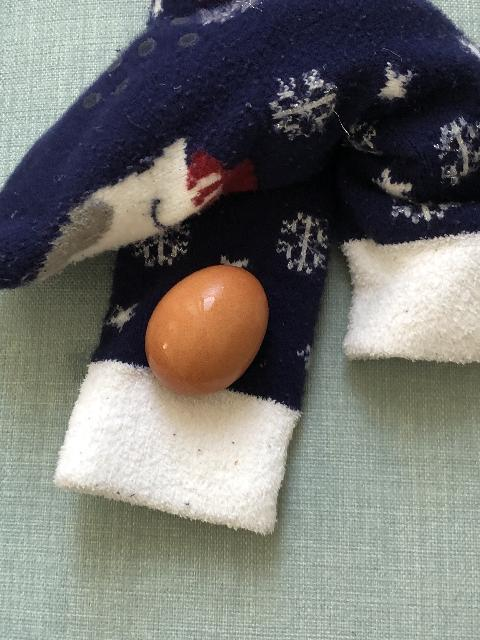Sano: (144, 263, 269, 397)
